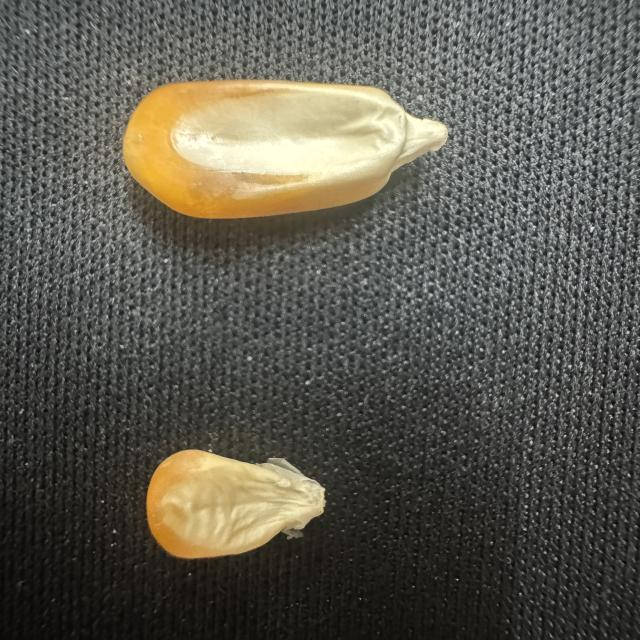Bad-Seed: (130, 443, 334, 573)
Good-Seed: (108, 75, 465, 228)
